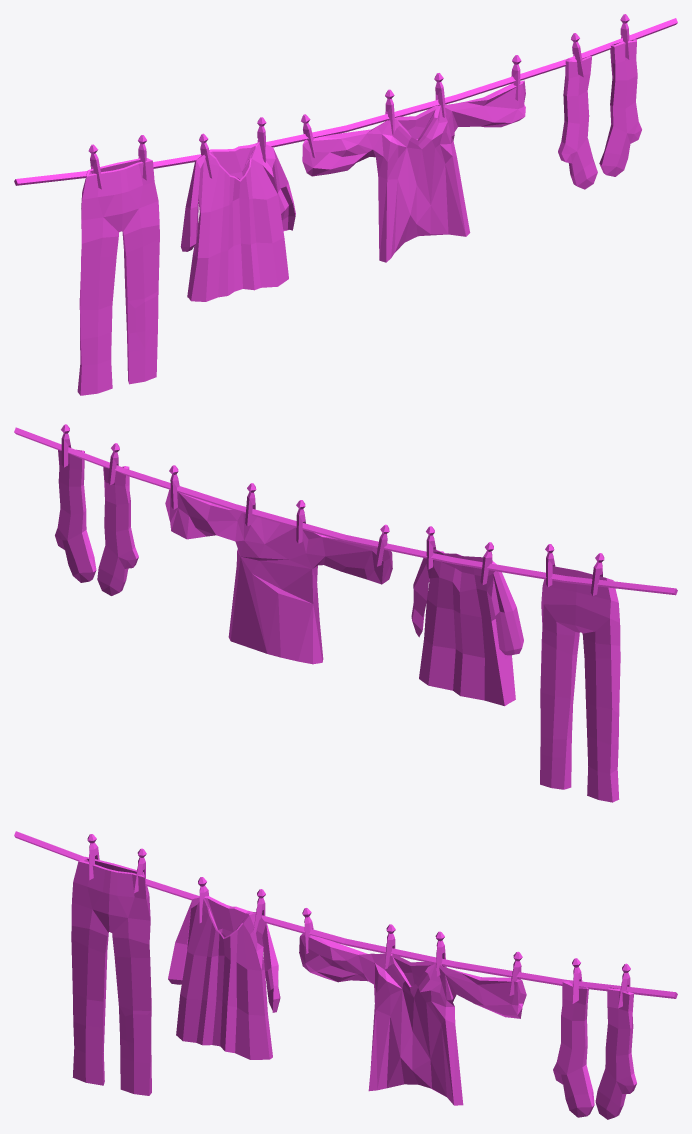
Rendered from SM_Clothesline_3m_Clothes_Fantasy.fbx.
The picture shows the model from 3 angles, top to bottom: view 1: azimuth 30°, elevation 25°; view 2: azimuth 150°, elevation 25°; view 3: azimuth 330°, elevation 25°; orthographic projection.
Parts seen in each view (by area): view 1: SM_Clothesline_3m_Clothes_Fantasy; view 2: SM_Clothesline_3m_Clothes_Fantasy; view 3: SM_Clothesline_3m_Clothes_Fantasy.
Part boxes in pixels (bbox=[...]): SM_Clothesline_3m_Clothes_Fantasy: bbox=[14, 14, 677, 395]; SM_Clothesline_3m_Clothes_Fantasy: bbox=[14, 424, 677, 802]; SM_Clothesline_3m_Clothes_Fantasy: bbox=[14, 831, 677, 1119].
Size of the model in its own units: 3 by 1.06 by 0.16.
